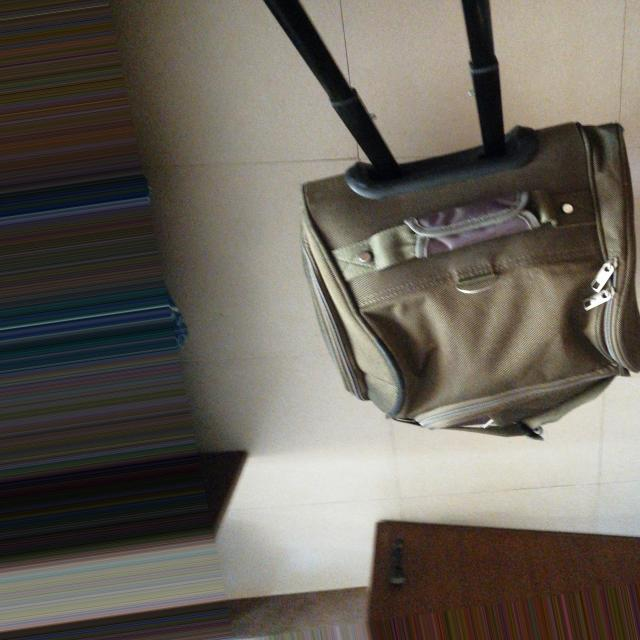Bag: (252, 3, 638, 489)
Handle: (261, 0, 537, 179)
